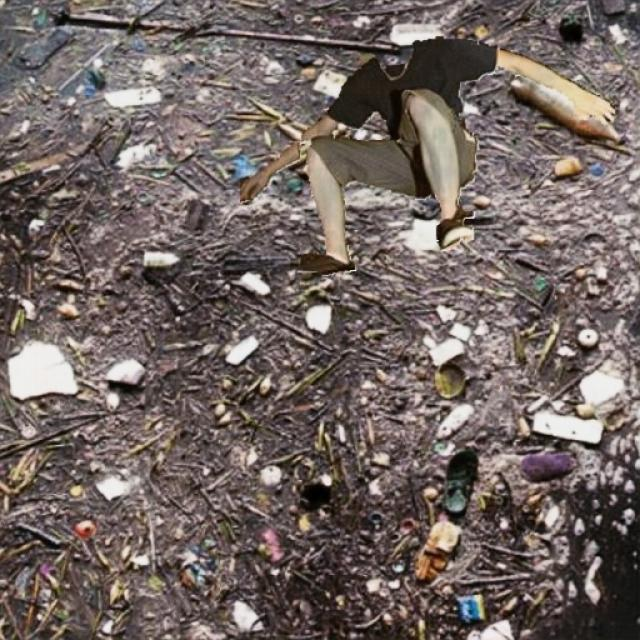Person in Rubble: (240, 36, 614, 276)
